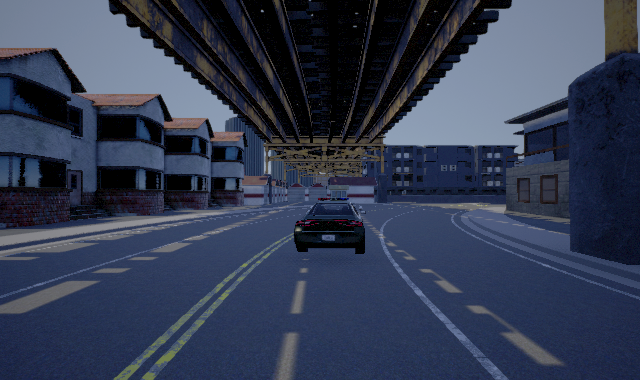vehicle: (294, 198, 366, 254)
